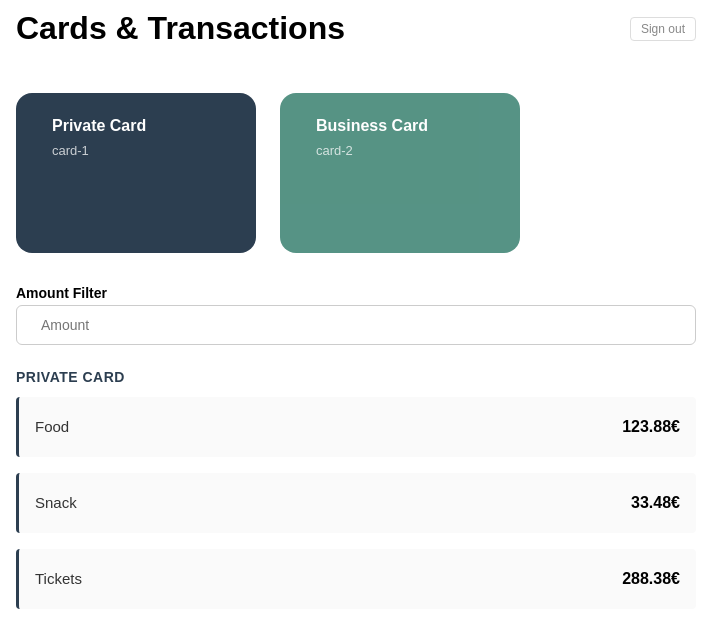
Test: negative amounts (refunds) are visible by default and hidden when filtered out
The image size is (713, 626).
Click the button "Business Card card-2" at (400, 173), box [280,93,520,253]
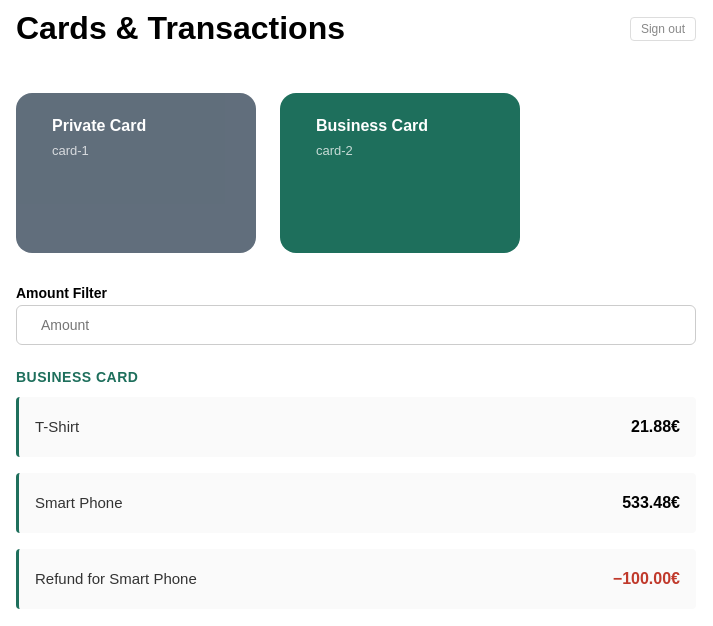
Expected: the text "Refund for Smart Phone" is shown, [35,570,197,587]
Type "0" into the number field labelled "Amount Filter" at (356, 325), box [16,305,696,345]
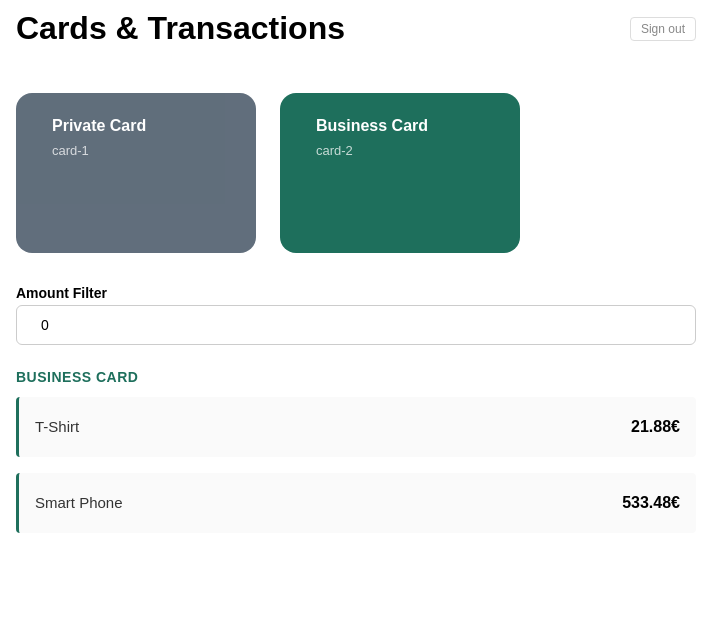
Expected: the text "Refund for Smart Phone" is gone
